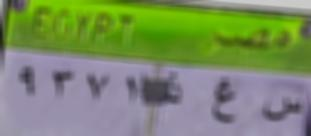1: (121, 75, 140, 107)
3: (49, 67, 78, 101)
7: (86, 67, 113, 105)
9: (15, 61, 40, 100)
ghayn: (199, 74, 245, 127)
seen: (258, 93, 304, 121)
